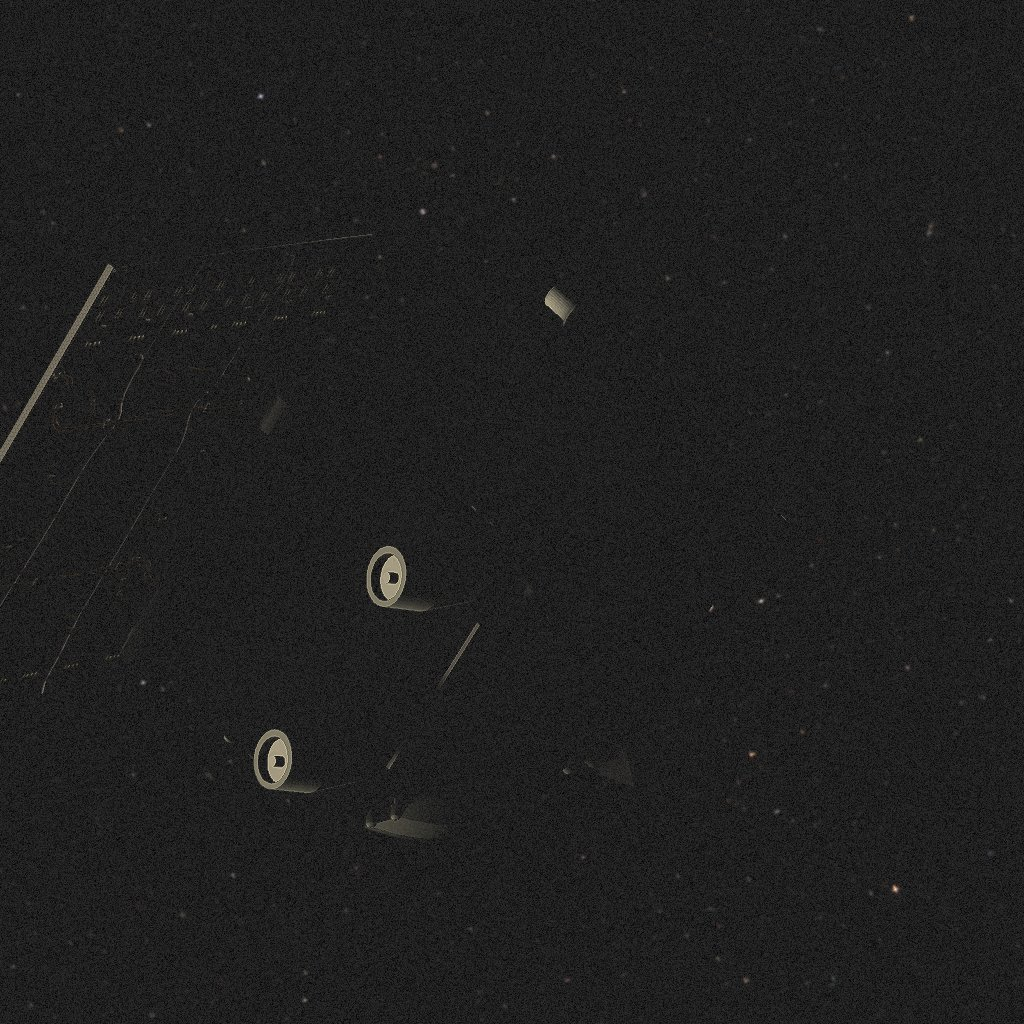proba_3_csc: (18, 239, 774, 860)
